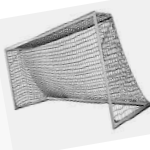goals: (3, 9, 150, 130)
